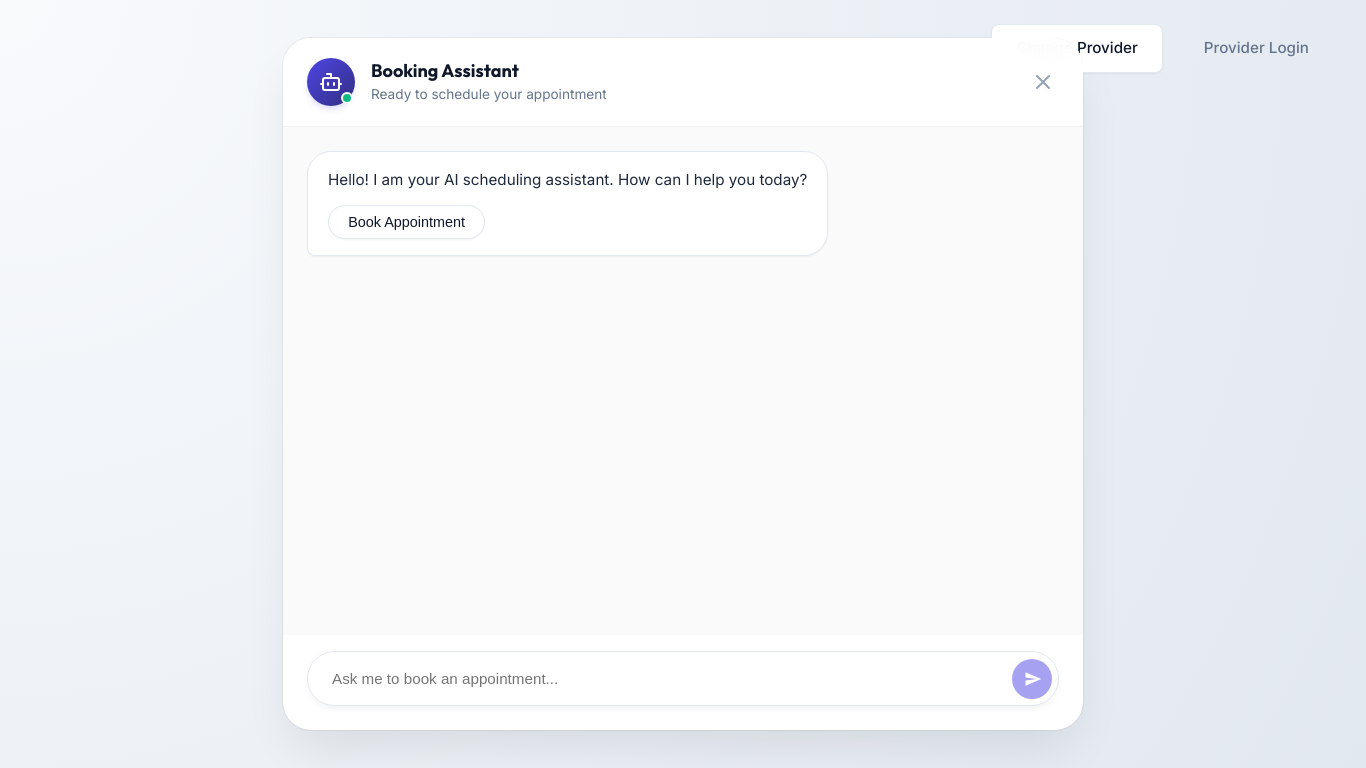
Test: Chatbot › handles message send failure gracefully
Expected: the heading "Booking Assistant" is shown, [371,59,519,82]
Click the button "Book Appointment": (407, 222) [328,205,485,239]
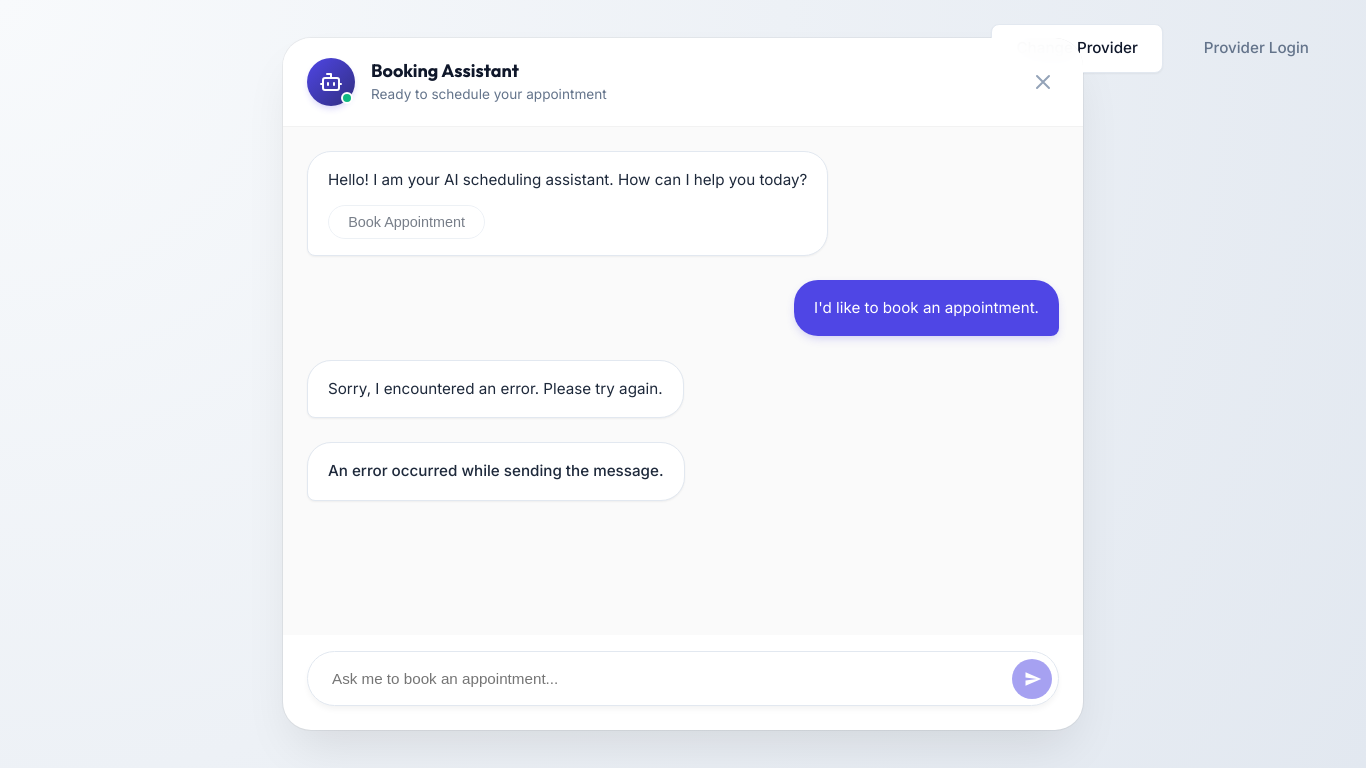
Now the text "Sorry, I encountered an error. Please try again." is shown, box [328,377,662,401]
